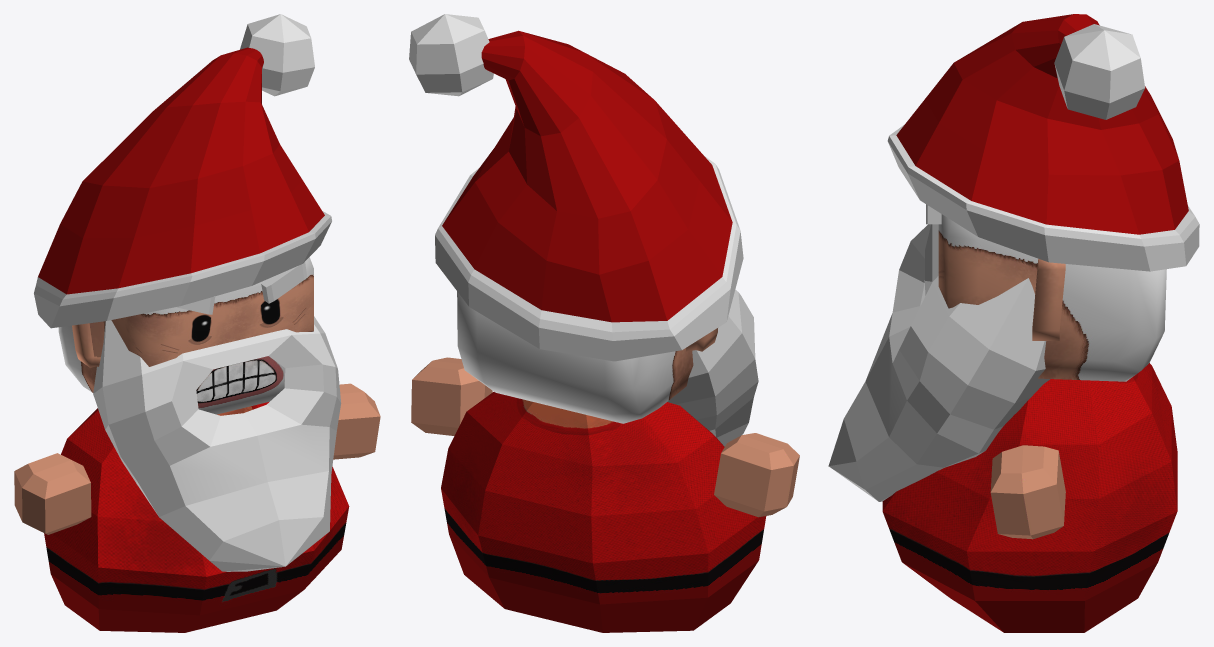
File: santa_test_1.fbx
3 views of the same model, side by side, from view 1: azimuth 30°, elevation 25°; view 2: azimuth 150°, elevation 25°; view 3: azimuth 270°, elevation 25° (orthographic). The views are drawn at different scales.
Parts seen in each view (by area): view 1: hat, beard, body, head, hand_R, eyebrow_L; view 2: hat, body, head, hand_R, beard; view 3: hat, body, beard, head, hand_R.
Boxes of the visible parts, x1,y1,x2,y2 form: hat: (34,14,331,328); beard: (93,316,341,571); body: (44,402,349,632); head: (58,257,313,414); hand_R: (14,383,380,534); eyebrow_L: (261,262,307,303); hat: (409,14,743,361); body: (441,392,766,632); head: (457,291,717,423); hand_R: (411,357,799,517); beard: (667,289,758,446); hat: (887,14,1199,271); body: (882,363,1177,632); beard: (828,224,1050,501); head: (938,214,1166,381); hand_R: (990,445,1065,539).
Bounding box in the file's own units: 235 × 338 × 187.
3 materials, 1 textured.
